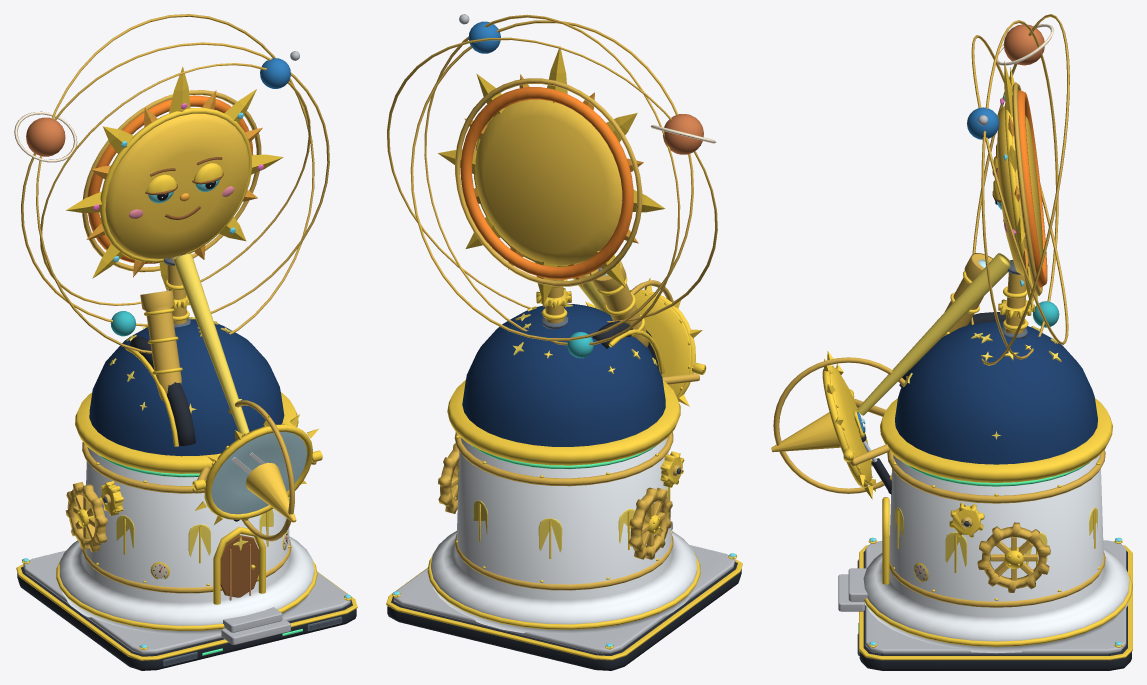
File: SunMirrorTower_T5.fbx
The picture shows the model from 3 angles, left to right: view 1: azimuth 30°, elevation 25°; view 2: azimuth 150°, elevation 25°; view 3: azimuth 270°, elevation 25°; orthographic projection. The views are drawn at different scales.
Visible parts, largest first — view 1: SunMirrorTowerT5Drum, SunMirrorTowerT5Dome, SunMirrorTowerT5Sun, SunMirrorTowerT5Platform, SunMirrorTowerT5Orbits, SunMirrorTowerT5Mirror, SunMirrorTowerT5Door, SunMirrorTowerT5Rays, SunMirrorTowerT5Planets, SunMirrorTowerT5Gears, SunMirrorTowerT5SunRayGlow, SunMirrorTowerT5Telescope (+8 smaller); view 2: SunMirrorTowerT5Drum, SunMirrorTowerT5Dome, SunMirrorTowerT5Sun, SunMirrorTowerT5Platform, SunMirrorTowerT5Orbits, SunMirrorTowerT5CoronaGlow, SunMirrorTowerT5Gears, SunMirrorTowerT5Armillary, SunMirrorTowerT5Mirror, SunMirrorTowerT5Rays, SunMirrorTowerT5Planets, SunMirrorTowerT5Trim (+5 smaller); view 3: SunMirrorTowerT5Drum, SunMirrorTowerT5Dome, SunMirrorTowerT5Platform, SunMirrorTowerT5Orbits, SunMirrorTowerT5Gears, SunMirrorTowerT5SunRayGlow, SunMirrorTowerT5Sun, SunMirrorTowerT5Mirror, SunMirrorTowerT5Gimbal, SunMirrorTowerT5Planets, SunMirrorTowerT5Trim, SunMirrorTowerT5CoronaGlow (+8 smaller).
Part boxes in pixels (x1,y1,x2,y2): SunMirrorTowerT5Drum: (56, 392, 317, 634); SunMirrorTowerT5Dome: (89, 319, 284, 456); SunMirrorTowerT5Sun: (100, 108, 252, 262); SunMirrorTowerT5Platform: (17, 550, 356, 670); SunMirrorTowerT5Orbits: (21, 14, 329, 353); SunMirrorTowerT5Mirror: (192, 414, 318, 524); SunMirrorTowerT5Door: (213, 527, 290, 644); SunMirrorTowerT5Rays: (66, 66, 283, 290); SunMirrorTowerT5Planets: (14, 51, 299, 336); SunMirrorTowerT5Gears: (65, 481, 288, 579); SunMirrorTowerT5SunRayGlow: (173, 253, 249, 435); SunMirrorTowerT5Telescope: (140, 290, 182, 400); SunMirrorTowerT5Drum: (427, 380, 700, 633); SunMirrorTowerT5Dome: (462, 303, 665, 446); SunMirrorTowerT5Sun: (474, 99, 622, 266); SunMirrorTowerT5Platform: (387, 545, 741, 670); SunMirrorTowerT5Orbits: (387, 14, 717, 345); SunMirrorTowerT5CoronaGlow: (460, 87, 633, 279); SunMirrorTowerT5Gears: (438, 443, 684, 559); SunMirrorTowerT5Armillary: (455, 78, 642, 286); SunMirrorTowerT5Mirror: (585, 277, 704, 406); SunMirrorTowerT5Rays: (438, 46, 665, 304); SunMirrorTowerT5Planets: (459, 14, 716, 358); SunMirrorTowerT5Trim: (386, 559, 742, 660); SunMirrorTowerT5Drum: (863, 398, 1132, 653); SunMirrorTowerT5Dome: (895, 312, 1097, 464); SunMirrorTowerT5Platform: (857, 538, 1131, 670); SunMirrorTowerT5Orbits: (971, 14, 1069, 365); SunMirrorTowerT5Gears: (913, 503, 1050, 592); SunMirrorTowerT5SunRayGlow: (857, 253, 1010, 415); SunMirrorTowerT5Sun: (997, 103, 1043, 278); SunMirrorTowerT5Mirror: (822, 351, 875, 499); SunMirrorTowerT5Gimbal: (773, 357, 905, 494); SunMirrorTowerT5Planets: (967, 24, 1059, 327); SunMirrorTowerT5Trim: (859, 545, 1132, 660); SunMirrorTowerT5CoronaGlow: (1018, 90, 1047, 287).
Bounding box in the file's own units: 483 × 850 × 479.
